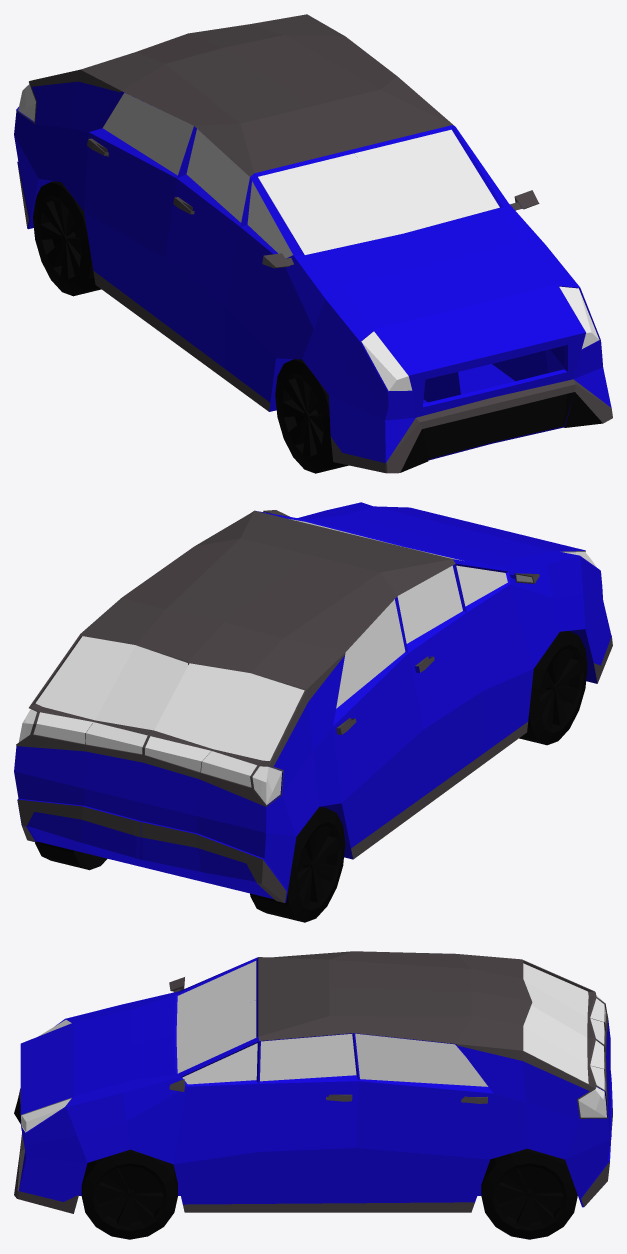
Rendered from carnb.fbx.
The picture shows the model from 3 angles, top to bottom: view 1: azimuth 30°, elevation 25°; view 2: azimuth 150°, elevation 25°; view 3: azimuth 270°, elevation 25°; orthographic projection. The views are drawn at different scales.
Parts seen in each view (by area): view 1: Cube; view 2: Cube; view 3: Cube.
Part boxes in pixels (<box>): Cube: <box>14,14,612,473</box>; Cube: <box>14,502,612,922</box>; Cube: <box>14,951,612,1239</box>.
Bounding box in the file's own units: 312 × 266 × 720.
